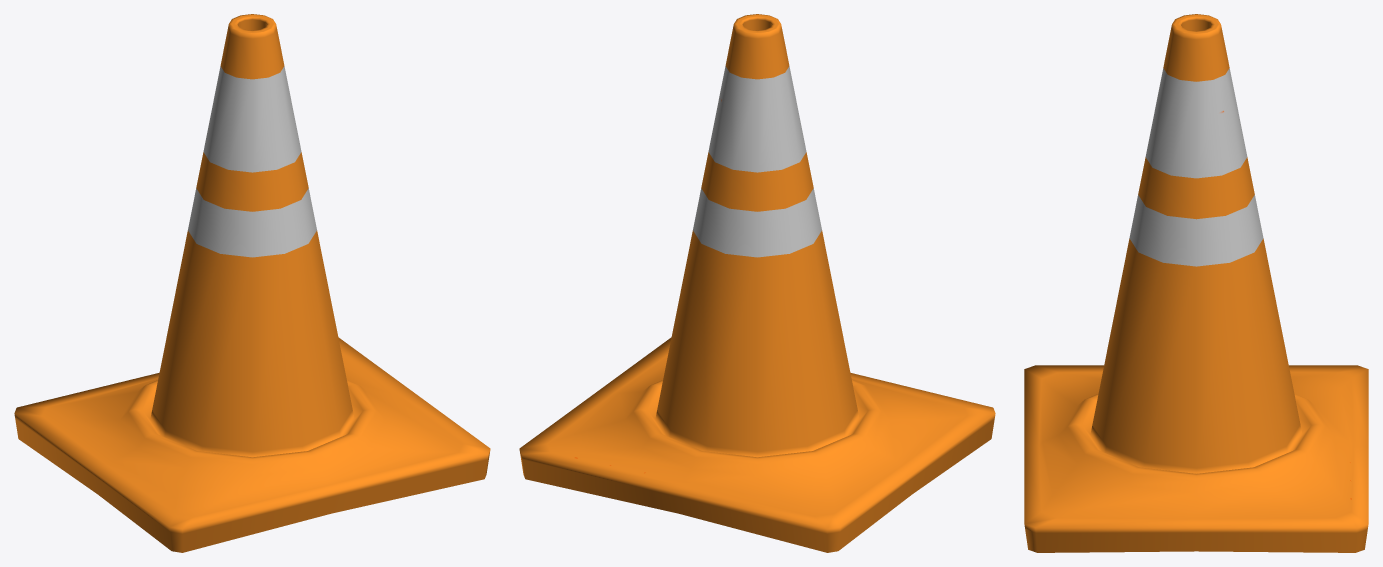
File: road cone_1.fbx
3 views of the same model, side by side, from view 1: azimuth 30°, elevation 25°; view 2: azimuth 150°, elevation 25°; view 3: azimuth 270°, elevation 25° (orthographic). The views are drawn at different scales.
Parts seen in each view (by area): view 1: Road cone1; view 2: Road cone1; view 3: Road cone1.
Part boxes in pixels (box(x1,y1,x2,y2)): Road cone1: box(14, 14, 490, 552); Road cone1: box(519, 14, 995, 552); Road cone1: box(1024, 14, 1368, 552).
Bounding box in the file's own units: 69.54 × 89.53 × 62.22.
Materials: 1 (1 with a texture image).
